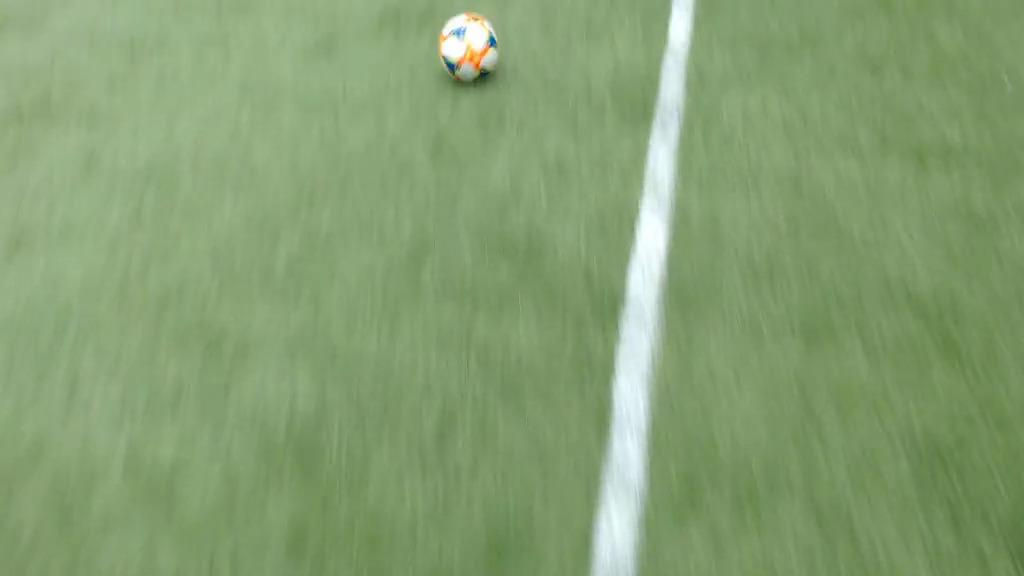ball: (439, 12, 499, 84)
